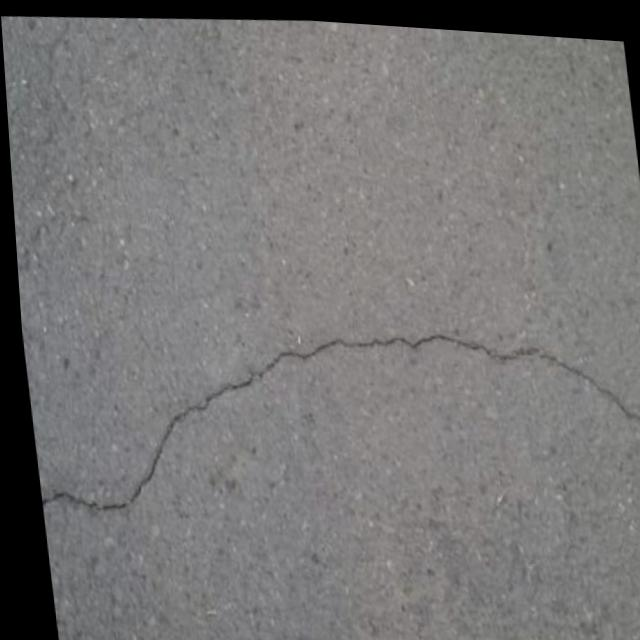Crack: (15, 282, 640, 562)
